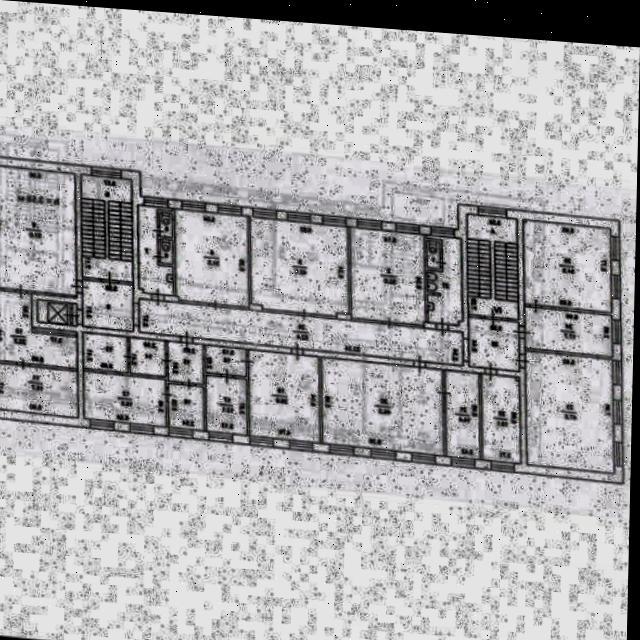room: (134, 301, 464, 366), (312, 359, 448, 457), (524, 350, 610, 473), (249, 218, 347, 319), (514, 219, 617, 313), (0, 170, 73, 298), (173, 211, 246, 309), (349, 229, 421, 325), (246, 352, 317, 443), (0, 295, 81, 372), (81, 177, 131, 285), (466, 214, 515, 320), (76, 374, 168, 429), (519, 306, 614, 357), (0, 367, 79, 420), (479, 374, 516, 464), (462, 317, 522, 372), (425, 235, 460, 326), (136, 208, 171, 298), (77, 283, 135, 334), (444, 371, 476, 460), (204, 378, 244, 437), (77, 336, 126, 374), (166, 386, 201, 433), (166, 344, 201, 386), (201, 347, 246, 378), (128, 340, 163, 379), (33, 304, 70, 328), (426, 242, 438, 270), (158, 215, 171, 240), (159, 242, 171, 266)
